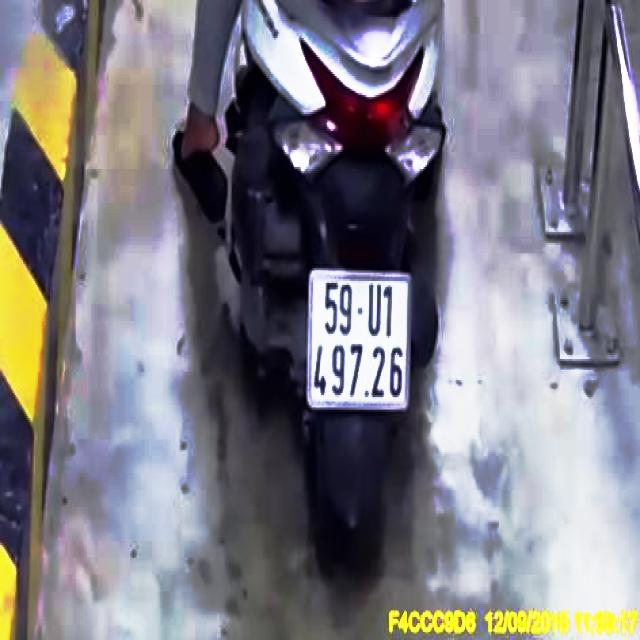license_plate: (309, 273, 412, 410)
